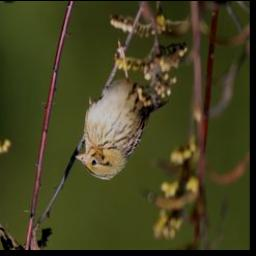Sparrow: (74, 40, 170, 182)
